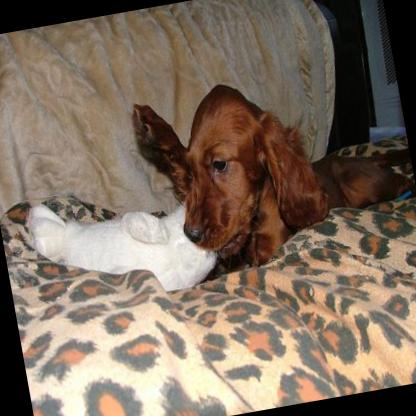Irish_setter: (120, 56, 416, 284)
